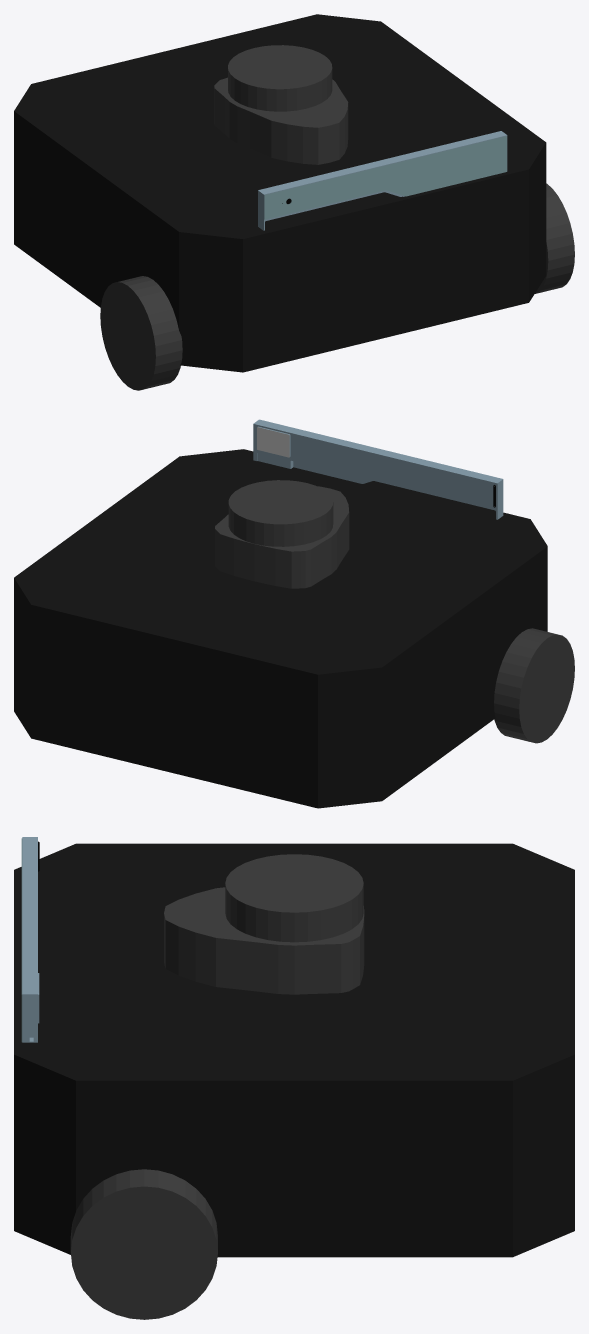
File: Turtlebot3.glb
3 views of the same model, one above another, from view 1: azimuth 30°, elevation 25°; view 2: azimuth 150°, elevation 25°; view 3: azimuth 270°, elevation 25° (orthographic). The views are drawn at different scales.
Visible parts, largest first — view 1: CubeW.001, Wheel, ID58, CylinderL.001, CylinderL, Wheel001, ID44; view 2: CubeW.001, ID44, Wheel, CylinderL.001, CylinderL, ID18, ID30; view 3: CubeW.001, Wheel001, CylinderL.001, CylinderL, ID44.
Part boxes in pixels (x1,y1,x2,y2): CubeW.001: (14, 14, 546, 372); Wheel: (100, 276, 182, 390); ID58: (264, 136, 506, 219); CylinderL.001: (214, 77, 348, 164); CylinderL: (228, 45, 332, 111); Wheel001: (535, 183, 574, 293); ID44: (258, 131, 507, 230); CubeW.001: (14, 449, 547, 808); ID44: (253, 419, 503, 519); Wheel: (494, 628, 574, 743); CylinderL.001: (215, 486, 349, 588); CylinderL: (228, 480, 333, 546); ID18: (257, 452, 373, 483); ID30: (257, 427, 289, 457); CubeW.001: (14, 843, 574, 1257); Wheel001: (70, 1169, 217, 1319); CylinderL.001: (164, 887, 364, 994); CylinderL: (225, 854, 363, 942); ID44: (22, 837, 37, 1042).
Size of the model in its own units: 2.15 by 1.12 by 1.89.
